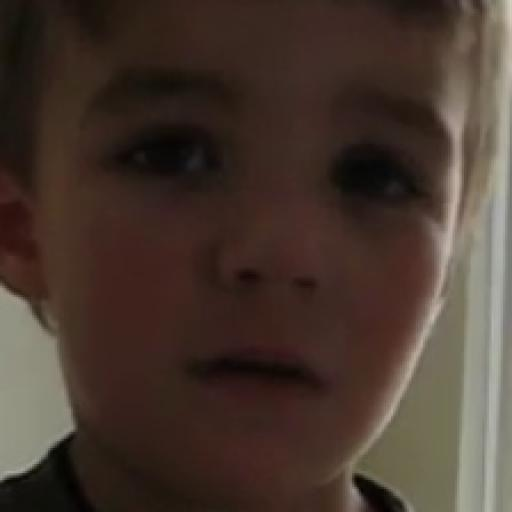Autism: (50, 20, 484, 479)
